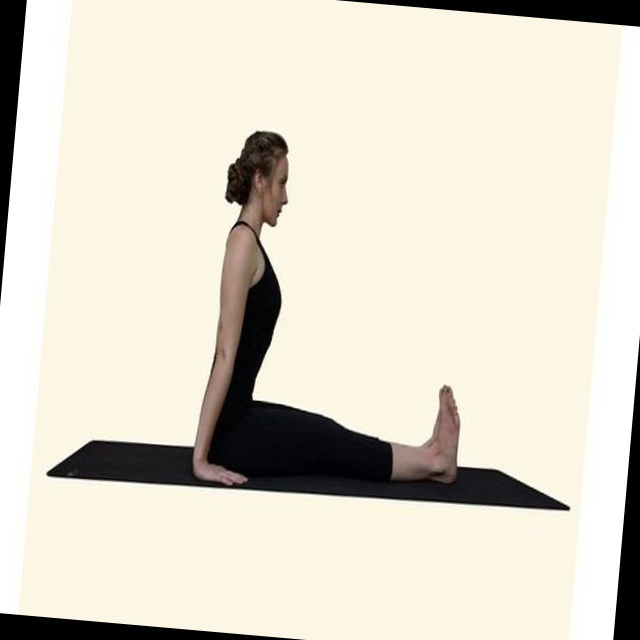Staff_Pose: (190, 130, 462, 489)
